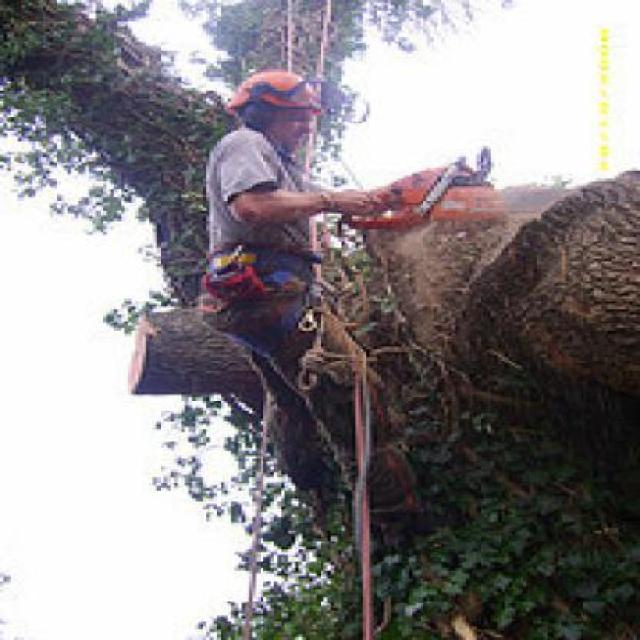Chainsaw: (340, 154, 565, 231)
